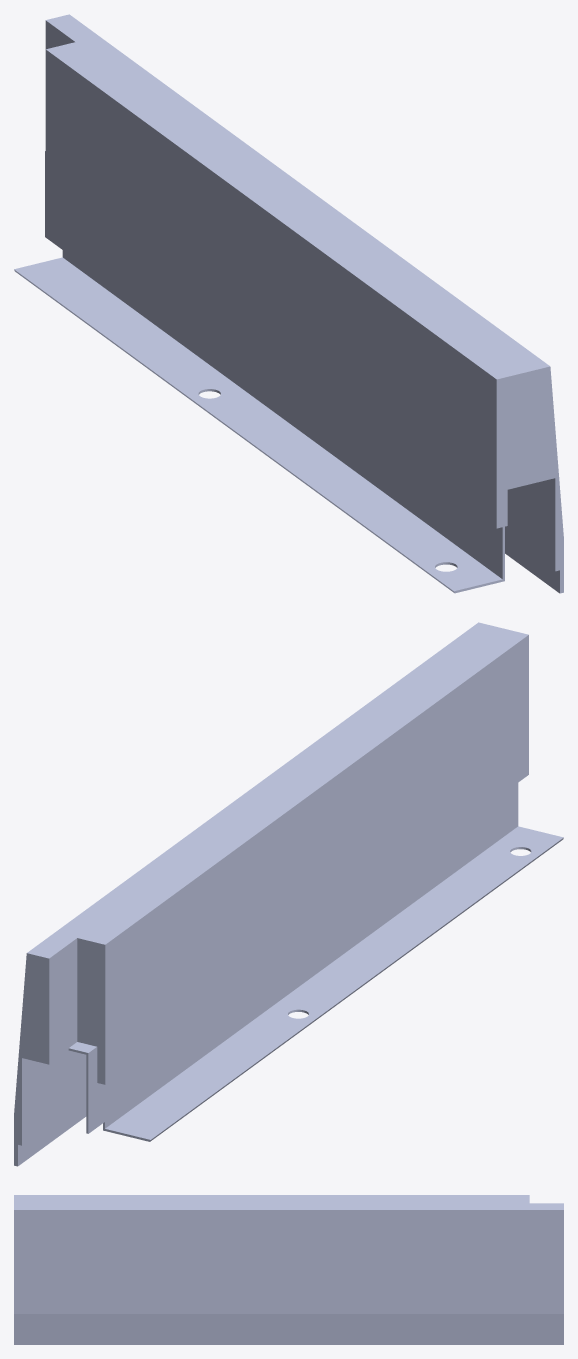
Rendered from mv-kava-N270-m.glb.
3 views of the same model, one above another, from view 1: azimuth 30°, elevation 25°; view 2: azimuth 150°, elevation 25°; view 3: azimuth 270°, elevation 25° (orthographic). The views are drawn at different scales.
Parts seen in each view (by area): view 1: 49957822; view 2: 49957822; view 3: 49957822.
Part boxes in pixels (<box>): 49957822: <box>14,14,563,593</box>; 49957822: <box>14,622,563,1166</box>; 49957822: <box>14,1195,563,1344</box>.
Bounding box in the file's own units: 0.0335 × 0.0685 × 0.2602.
